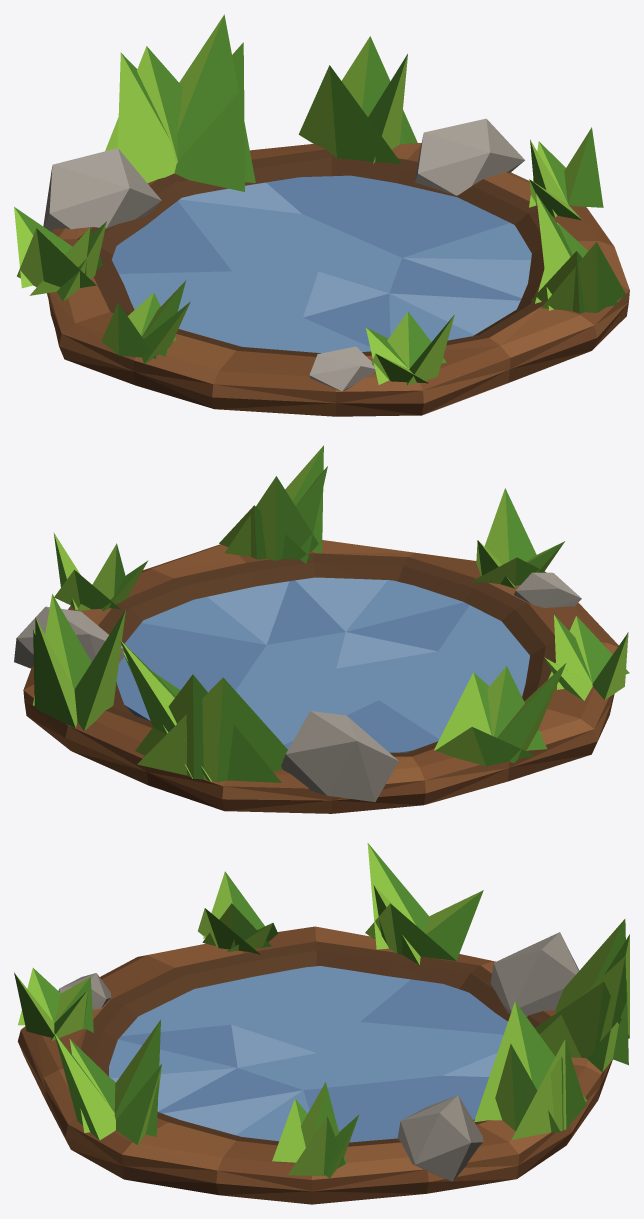
Rendered from FMS_Water_Puddle_Round.fbx.
3 renders of one model, top to bottom at view 1: azimuth 30°, elevation 25°; view 2: azimuth 150°, elevation 25°; view 3: azimuth 270°, elevation 25°, orthographic.
Parts seen in each view (by area): view 1: FMS_Water_Puddle_Round; view 2: FMS_Water_Puddle_Round; view 3: FMS_Water_Puddle_Round.
Part boxes in pixels (bbox=[...]): FMS_Water_Puddle_Round: bbox=[14, 14, 629, 416]; FMS_Water_Puddle_Round: bbox=[14, 445, 629, 813]; FMS_Water_Puddle_Round: bbox=[14, 843, 629, 1204].
Bounding box in the file's own units: 1.19 × 0.3221 × 1.19.
